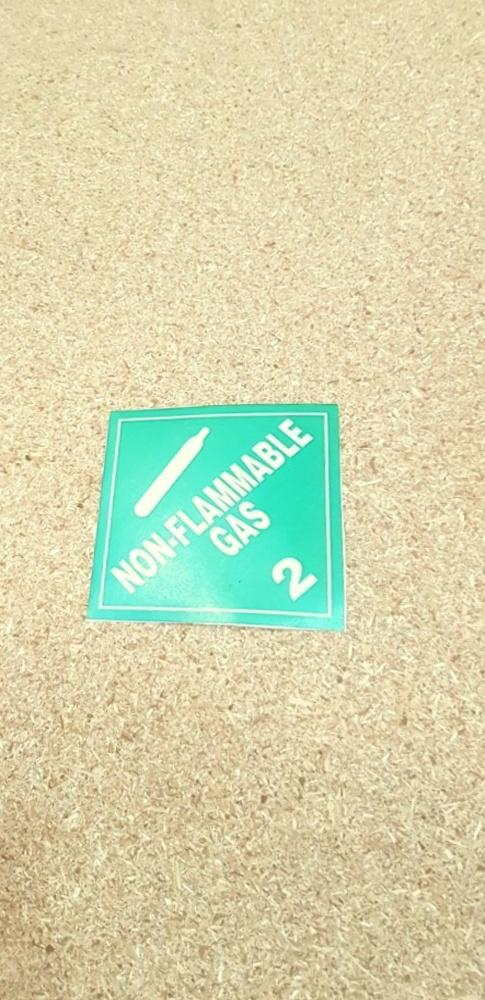non-flammable-gas: (85, 402, 357, 632)
